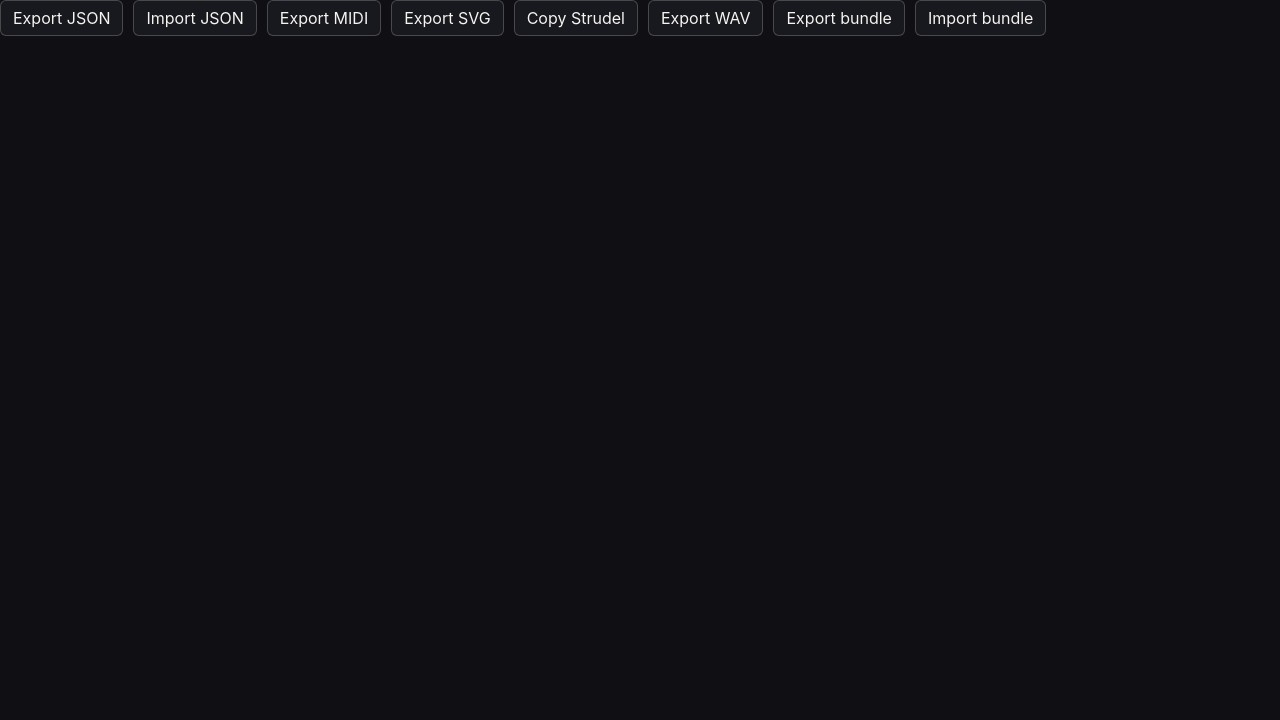
ImportExportPanel bundle dialog › keeps the embed choice out of the bar until Export bundle is pressed
The image size is (1280, 720).
Check: the field labelled "Embed sound banks in bundle" is not shown
Step 1. Click the button "Export bundle" → (839,18), box [774,0,905,36]
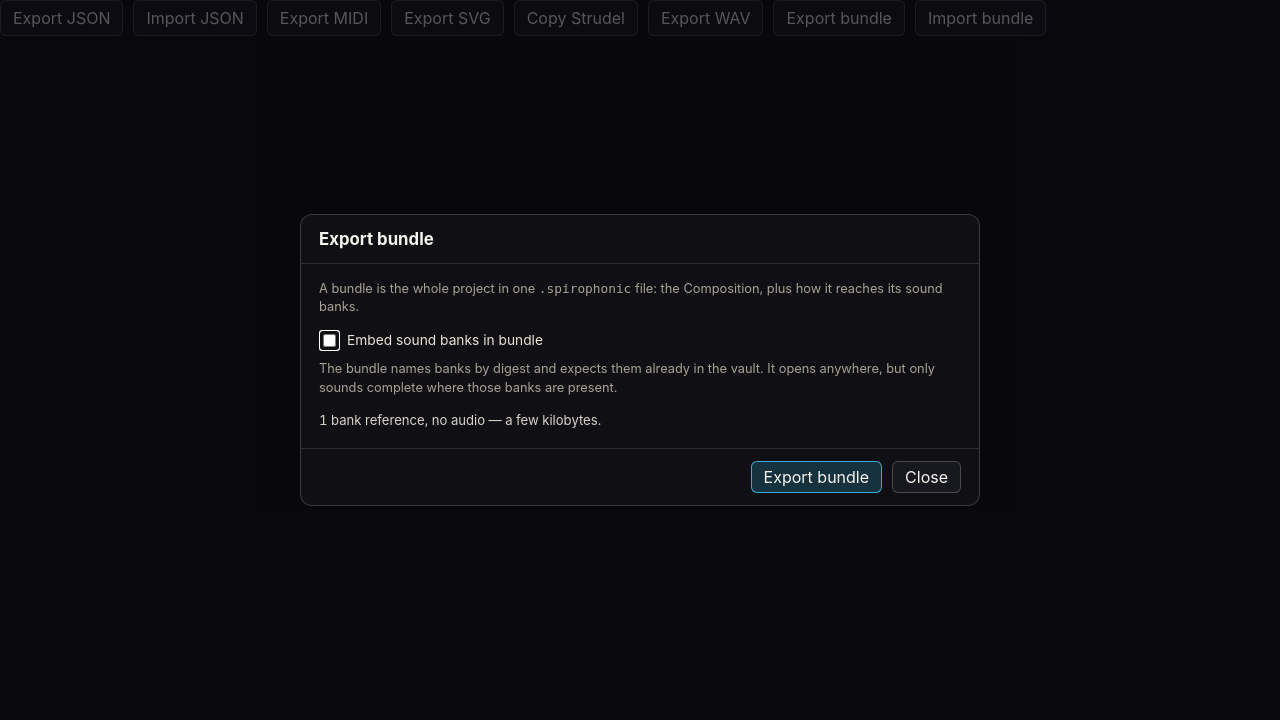
Check: the checkbox labelled "Embed sound banks in bundle" is shown, box [323,334,336,347]
